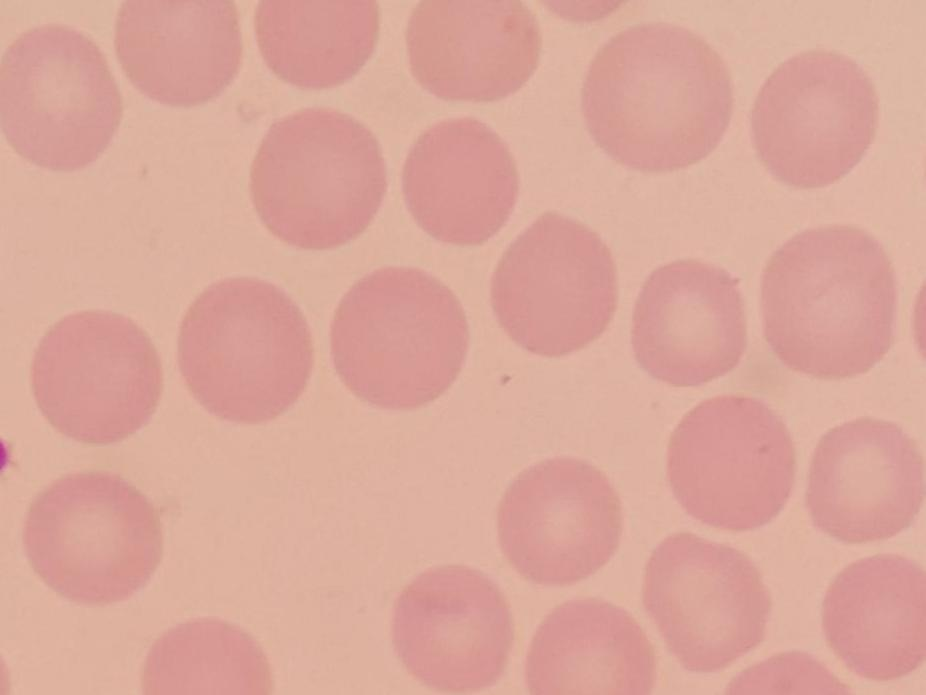Uninfected: (582, 24, 737, 169), (250, 111, 392, 252), (762, 229, 900, 374), (640, 529, 773, 674), (333, 264, 464, 411), (180, 281, 312, 424), (488, 209, 616, 355), (23, 474, 158, 612), (753, 47, 881, 191), (31, 311, 162, 449), (0, 29, 122, 170), (493, 457, 628, 584), (665, 397, 796, 526), (392, 564, 513, 695), (805, 416, 921, 545), (400, 117, 516, 246), (405, 0, 542, 103), (110, 2, 236, 108), (823, 549, 926, 676), (637, 256, 741, 380), (525, 597, 653, 695), (252, 0, 378, 93), (140, 614, 262, 695)
